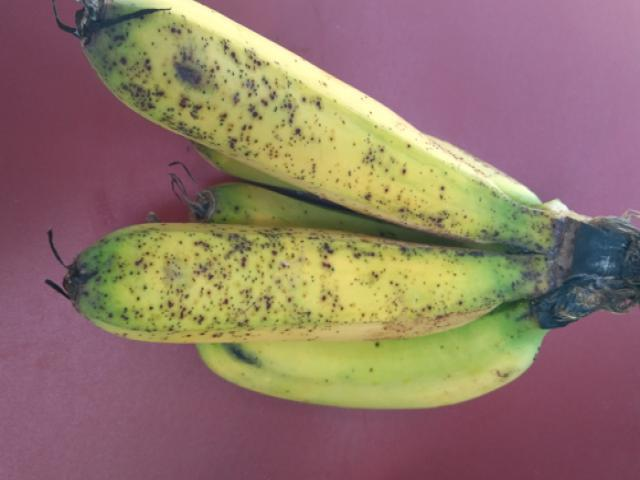ripe: (36, 0, 485, 242), (55, 204, 535, 338)
